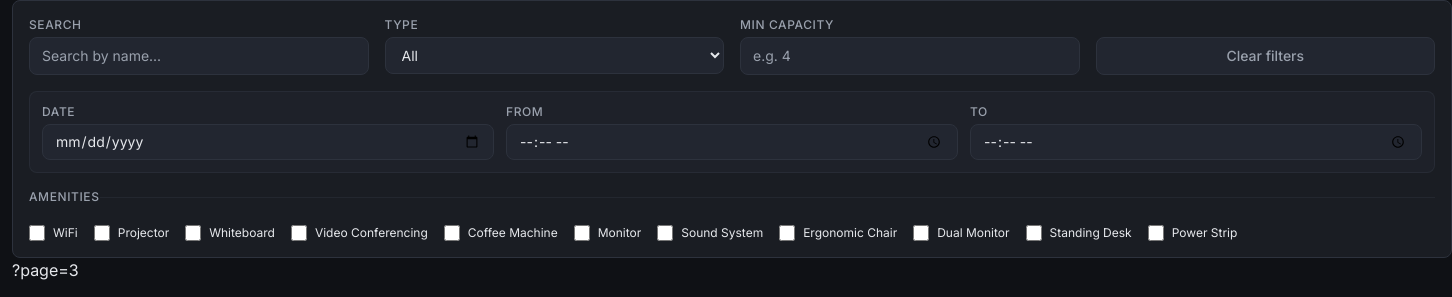
Test case: FilterBar Component › writes the right query-string values and resets page to 1 on filter changes
Check: the text with test id "current-search" reads "?page=3", box x1=12 y1=260 x2=79 y2=280
# Change type to Room
Select "Room" in the dropdown labelled "Type" at (554, 56), box x1=384 y1=37 x2=724 y2=74
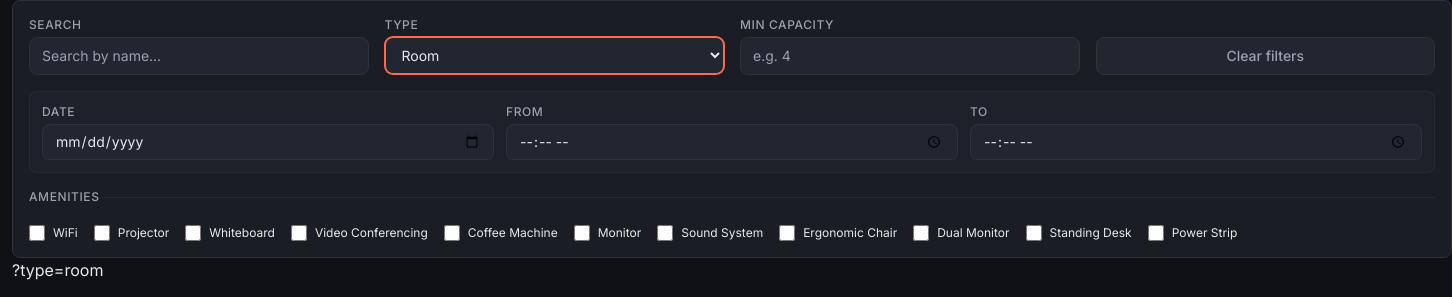
Check: the text with test id "current-search" shows "type=room", box x1=12 y1=260 x2=103 y2=280
Check: the text with test id "current-search" no longer shows "page="
# Change min capacity
Type "4" into the number field labelled "Min Capacity" at (910, 56), box x1=740 y1=37 x2=1080 y2=75
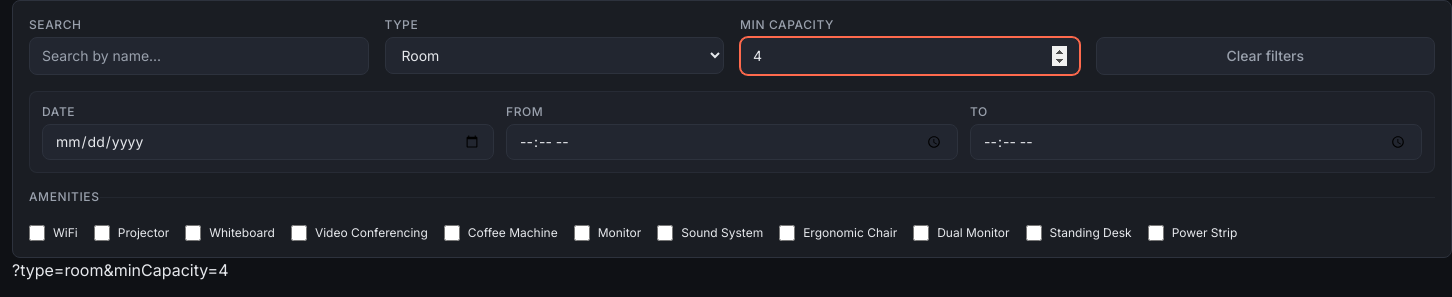
Check: the text with test id "current-search" shows "minCapacity=4", box x1=12 y1=260 x2=228 y2=280
# Toggle amenities
Click the checkbox labelled "WiFi" at (37, 233), box x1=29 y1=225 x2=45 y2=241
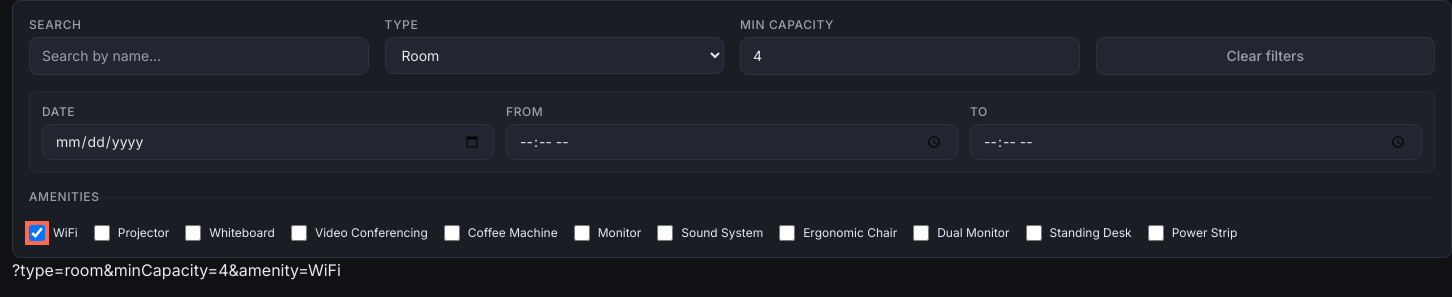
Check: the text with test id "current-search" shows "amenity=WiFi", box x1=12 y1=260 x2=341 y2=280
Click the checkbox labelled "Projector" at (102, 233), box x1=94 y1=225 x2=110 y2=241
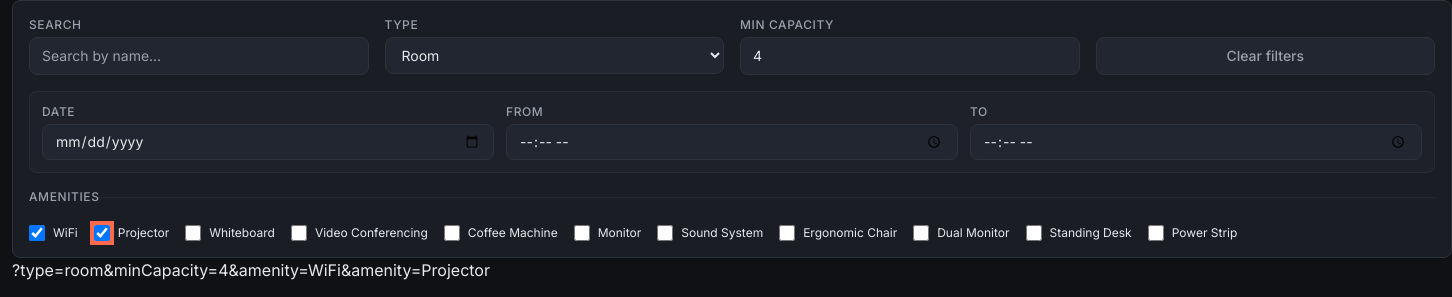
Check: the text with test id "current-search" shows "amenity=WiFi", box x1=12 y1=260 x2=490 y2=280
Check: the text with test id "current-search" shows "amenity=Projector", box x1=12 y1=260 x2=490 y2=280
